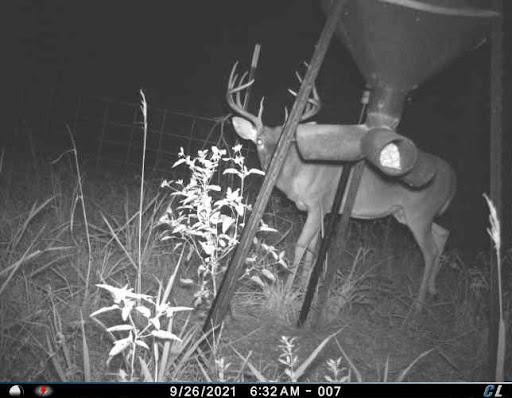Deer: (218, 52, 468, 339)
